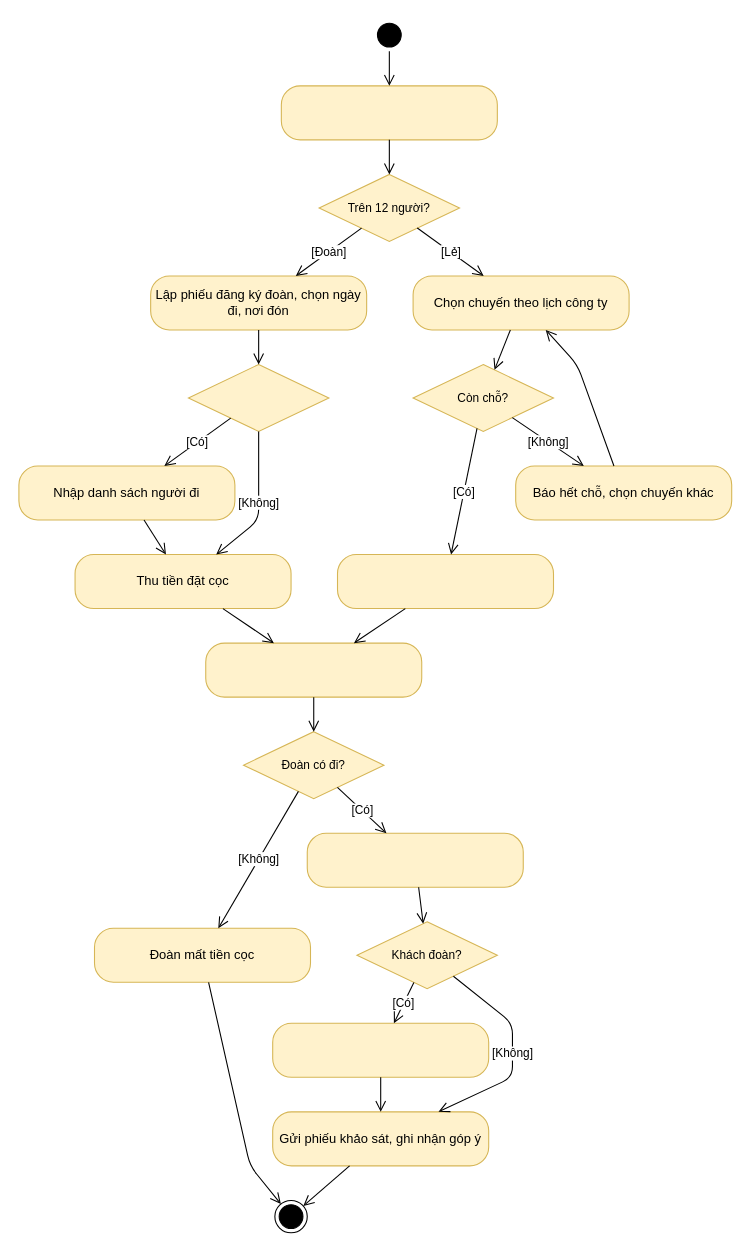
This 751x1252 diagram has some shape labels left out. The shapes that lost their labels are listed below. From the top down, each one's box as (x1, y1, x2, y2) in pixels, then its label:
(280, 85, 497, 140): Khách liên hệ đăng ký tour
(187, 363, 329, 431): Mua bảo hiểm?
(336, 554, 554, 609): Bán vé, thu tiền vé
(205, 642, 422, 697): Phân công HDV không trùng lịch
(306, 832, 523, 887): Thực hiện tour
(272, 1022, 489, 1077): Thanh toán kinh phí còn lại
